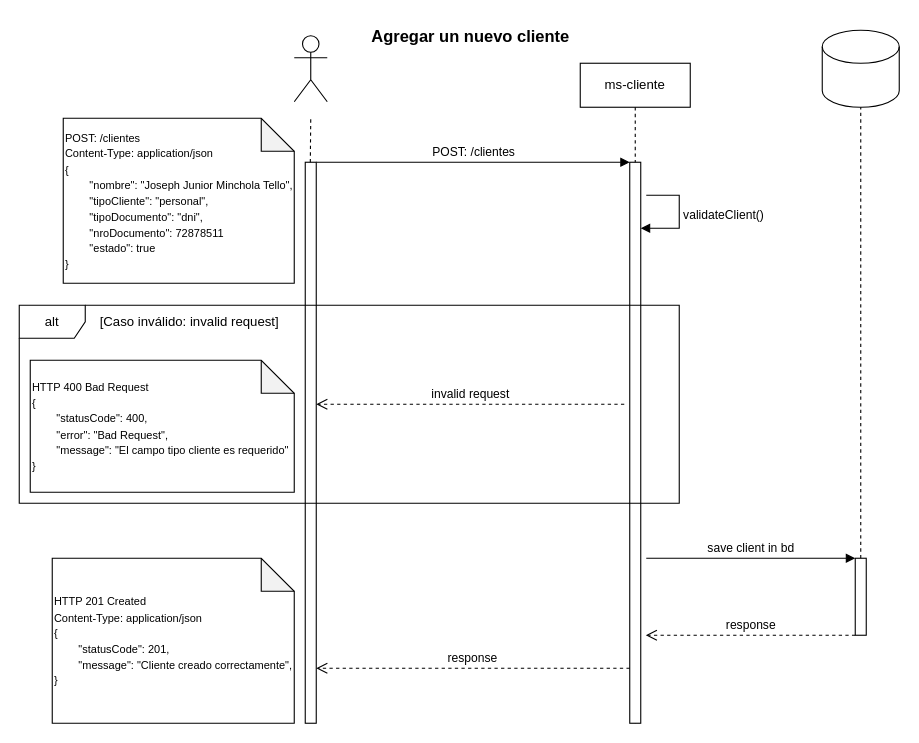
This 919x743 diagram has some shape labels left out. Here are the shapes that lost their labels. From the top down, the centre of each, then its label:
pixel 310 68: Cliente
pixel 860 68: MongoDb
